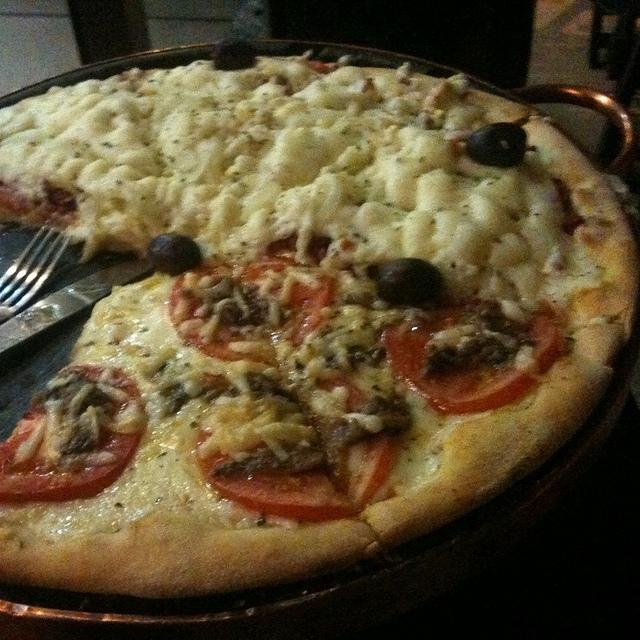tomato: (382, 300, 566, 415), (0, 366, 145, 504), (195, 430, 397, 522), (285, 274, 336, 348)
